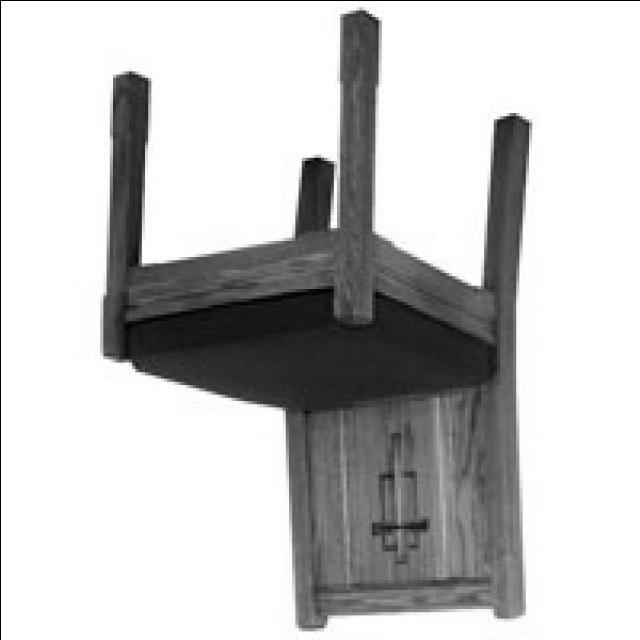chair: (99, 8, 534, 630)
